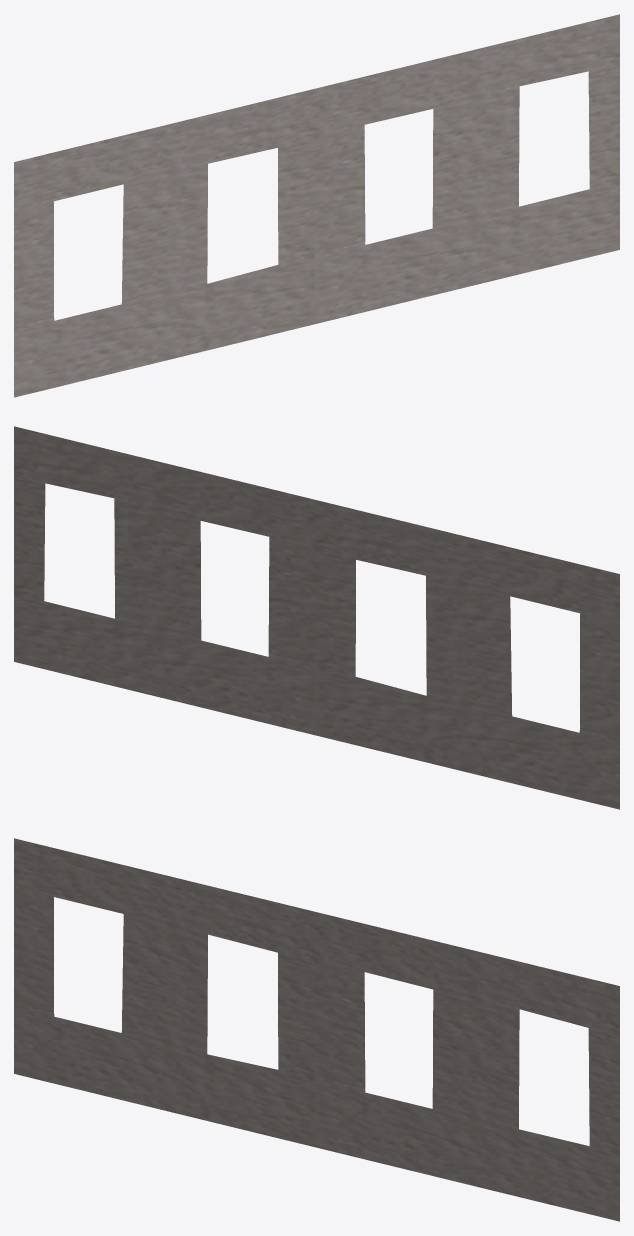
File: W_AI1_ffff_1401.glb
The picture shows the model from 3 angles, top to bottom: view 1: azimuth 30°, elevation 25°; view 2: azimuth 150°, elevation 25°; view 3: azimuth 330°, elevation 25°; orthographic projection.
Visible parts, largest first — view 1: innenpolySurface601Shape; view 2: innenpolySurface601Shape; view 3: innenpolySurface601Shape.
Part boxes in pixels (left/top/right/bottom): innenpolySurface601Shape: left=14, top=14, right=619, bottom=397; innenpolySurface601Shape: left=14, top=426, right=619, bottom=809; innenpolySurface601Shape: left=14, top=838, right=619, bottom=1221.
Bounding box in the file's own units: 0.9385 × 0.3486 × 1.31e-07.
Materials: 1 (1 with a texture image).
